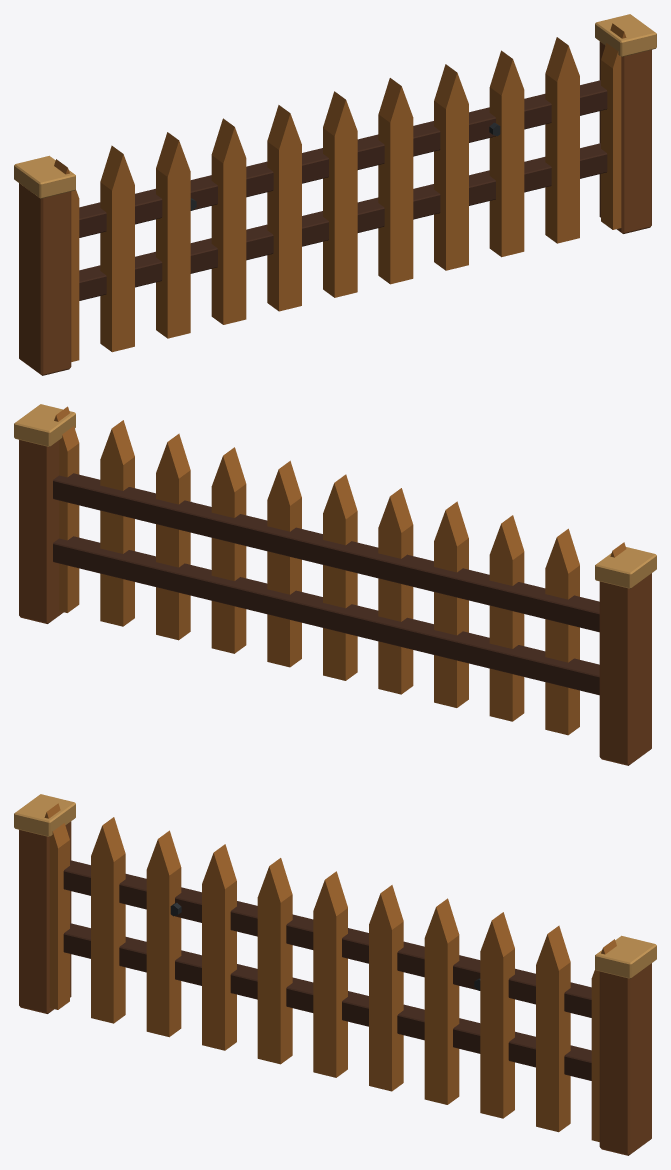
3 views of the same model, one above another, from view 1: azimuth 30°, elevation 25°; view 2: azimuth 150°, elevation 25°; view 3: azimuth 330°, elevation 25° (orthographic).
Visible parts, largest first — view 1: WK_TownHardscape_TH02_LOD1; view 2: WK_TownHardscape_TH02_LOD1; view 3: WK_TownHardscape_TH02_LOD1.
Part boxes in pixels (bbox=[...]): WK_TownHardscape_TH02_LOD1: bbox=[14, 14, 656, 375]; WK_TownHardscape_TH02_LOD1: bbox=[14, 404, 656, 765]; WK_TownHardscape_TH02_LOD1: bbox=[14, 794, 656, 1155].
Size of the model in its own units: 4 by 1.25 by 0.3.
